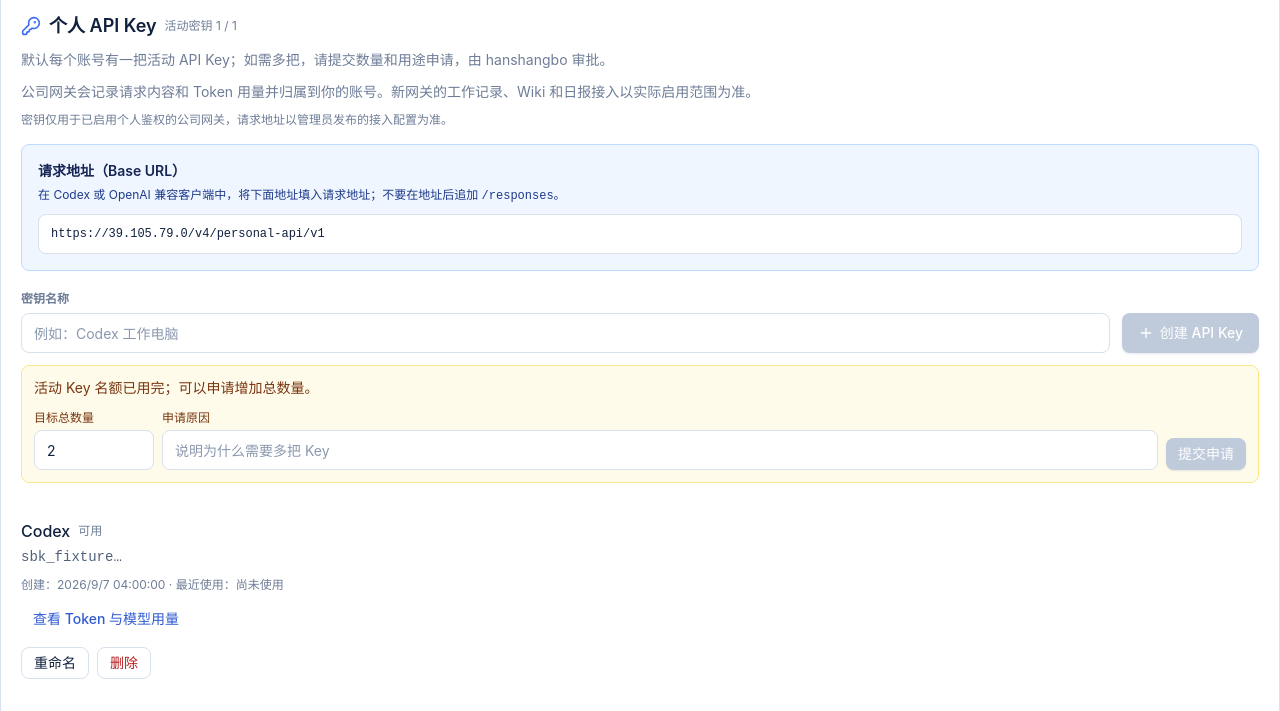
PersonalApiKeys › does not optimistically remove a key on delete failure and supports cancellation
Expected: the text "Codex" is shown, left=21, top=519, right=70, bottom=543
Click the button with aria-label "删除 Codex": (124,663) left=97, top=647, right=151, bottom=679
(page scrolled)
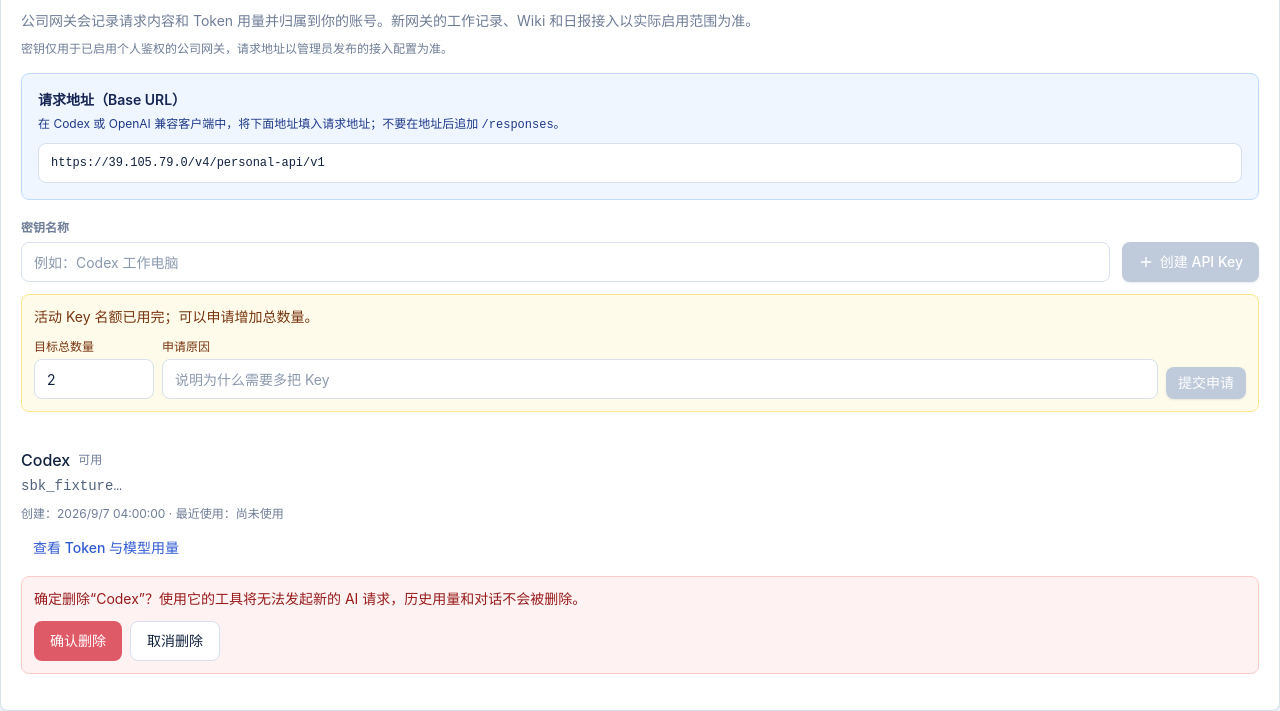
Click the button "确认删除": (78,641) left=34, top=621, right=122, bottom=661
(page scrolled)
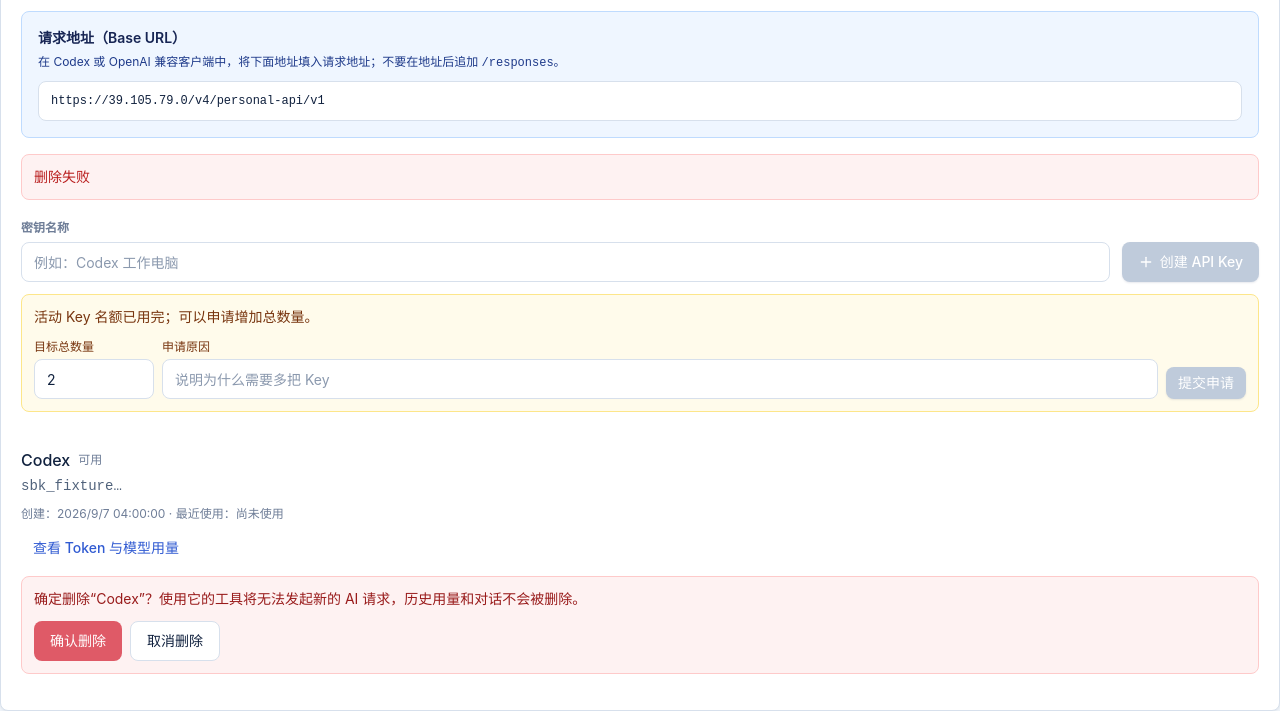
Expected: the text "可用" is shown, left=78, top=452, right=102, bottom=468
Expected: the message reads "删除失败", left=34, top=168, right=90, bottom=185
Click the button "取消删除": (175,641) left=130, top=621, right=220, bottom=661
(page scrolled)
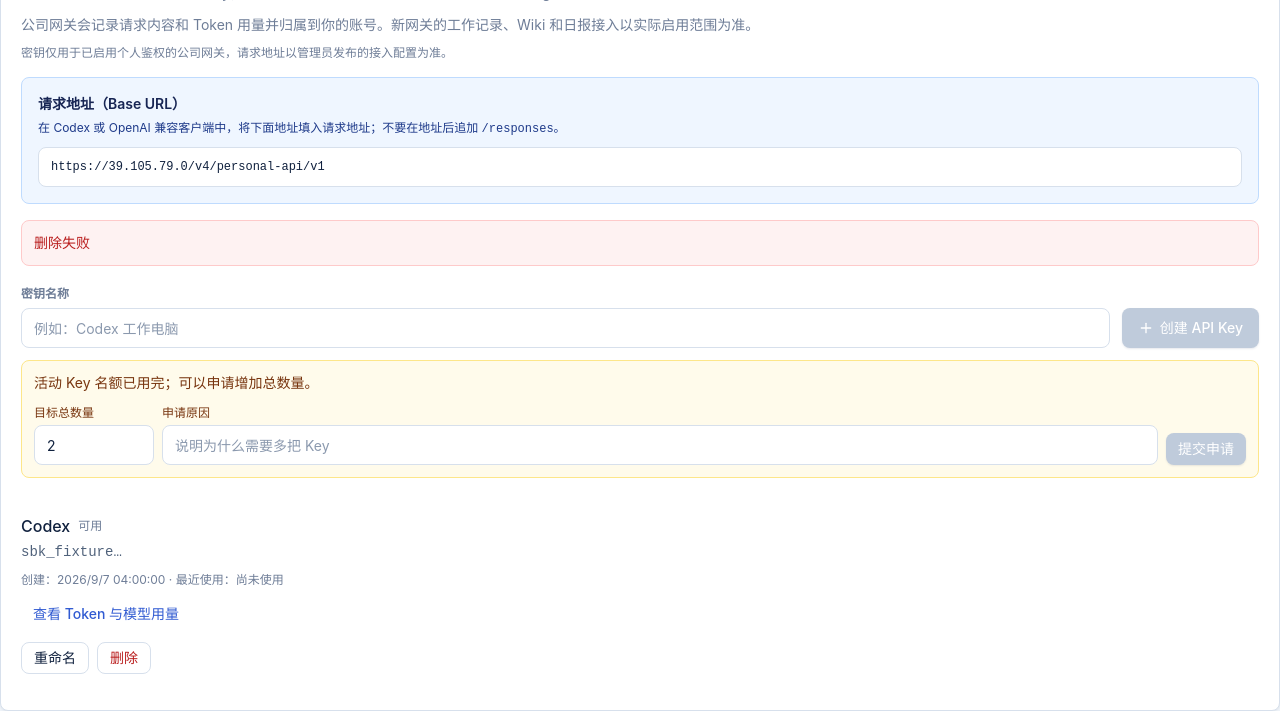
Expected: the element "确认删除密钥" is gone
